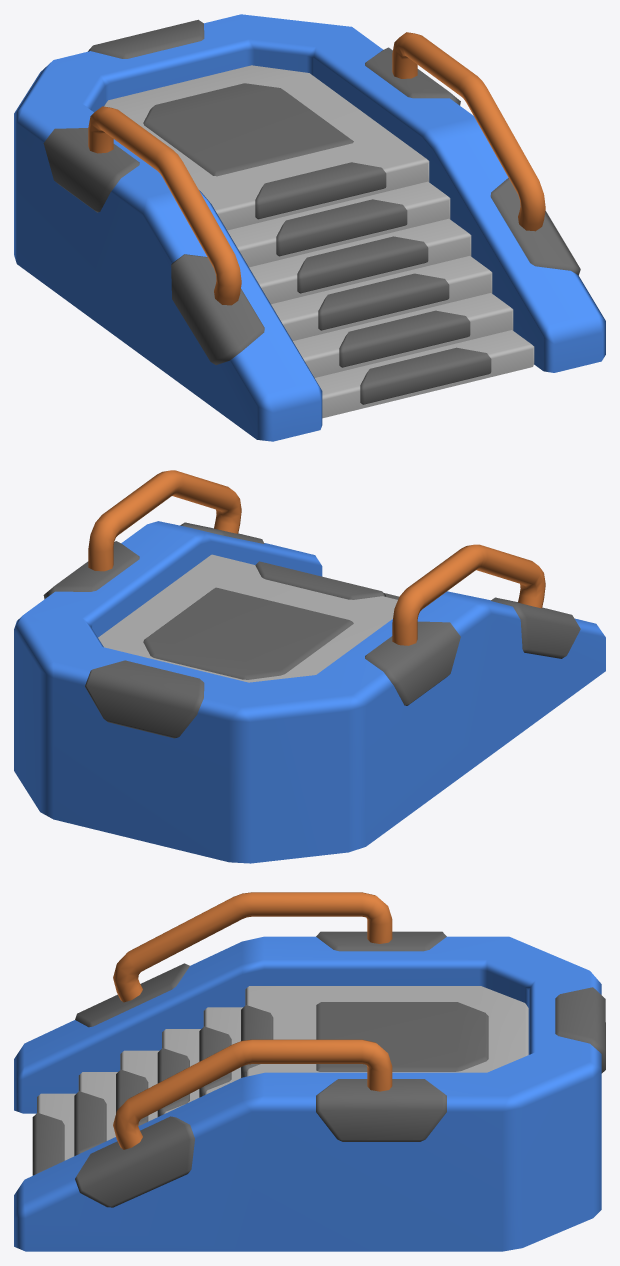
Rendered from podium_001.fbx.
3 renders of one model, top to bottom at view 1: azimuth 30°, elevation 25°; view 2: azimuth 150°, elevation 25°; view 3: azimuth 270°, elevation 25°, orthographic.
Parts seen in each view (by area): view 1: podium_001; view 2: podium_001; view 3: podium_001.
Part boxes in pixels (x1,y1,x2,y2): podium_001: (14, 14, 605, 441); podium_001: (14, 470, 605, 863); podium_001: (14, 892, 605, 1251).
Size of the model in its own units: 741 by 1074 by 401.
